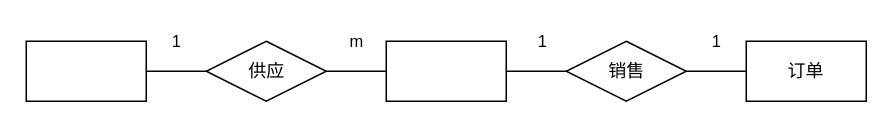
This 893x128 diagram has some shape labels left out. Each missing label, with the centre of its shape:
供应商: the point at 85,70
库存: the point at 445,70
